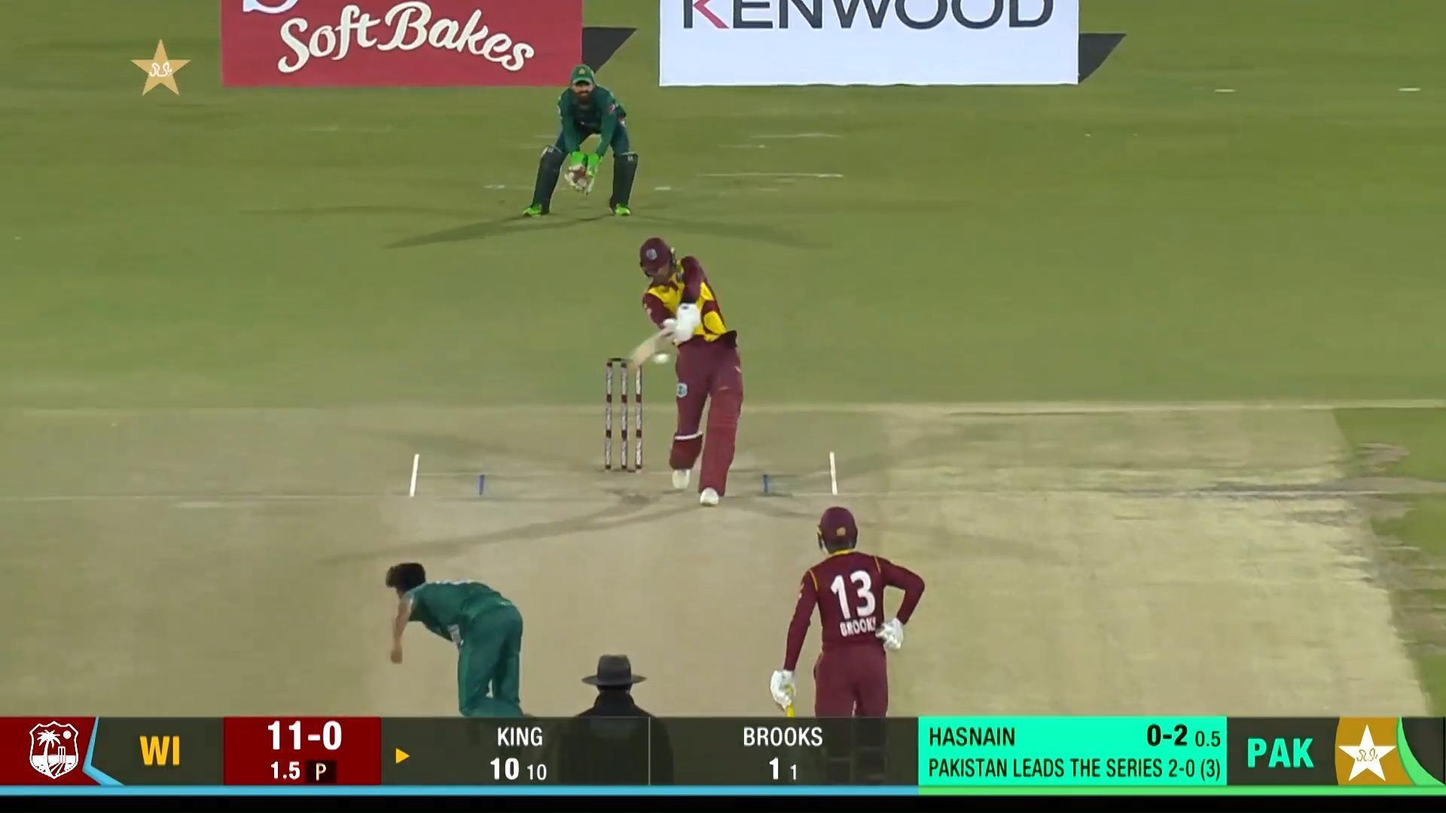BM 1: (625, 236, 745, 510)
BO: (382, 560, 559, 790)
